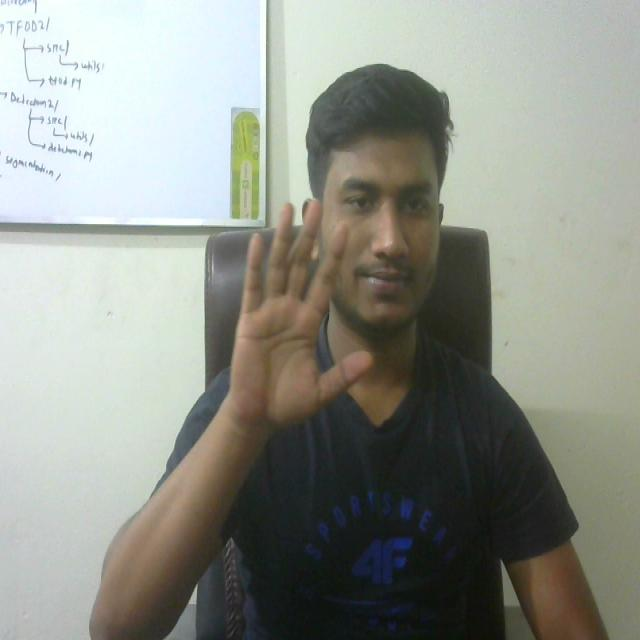Hello: (218, 192, 380, 447)
